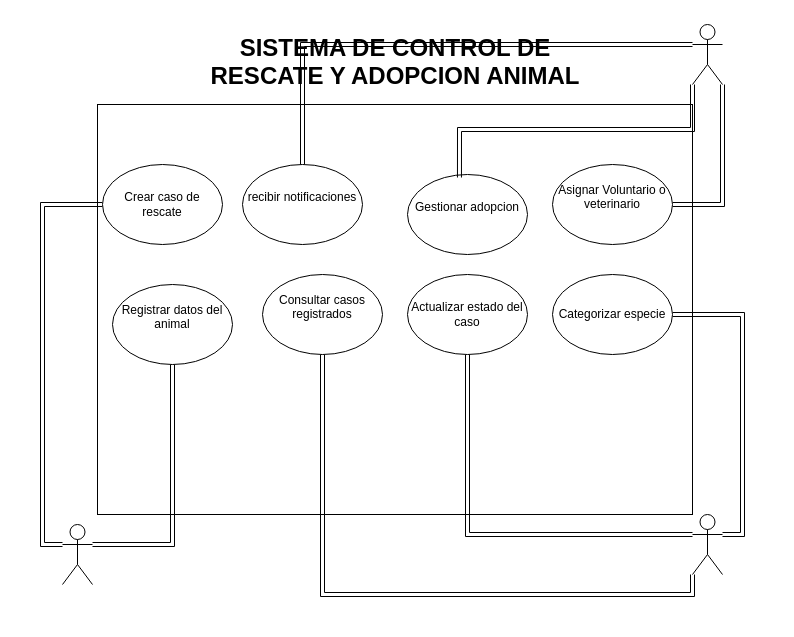
The diagram is 794 pixels wide and 637 high, and some of its shapes have lost their labels. Here are the shapes that lost their labels. From the top down, the centre of each, then its label:
(707,54): Voluntario/Veterinario
(77,554): Ciudadano/Reportante
(707,544): Administrador del Refugio
